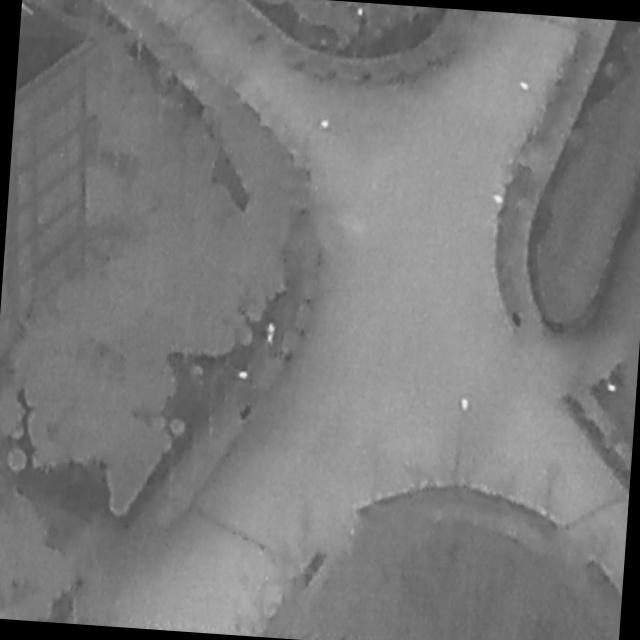person: (266, 322, 277, 345)
